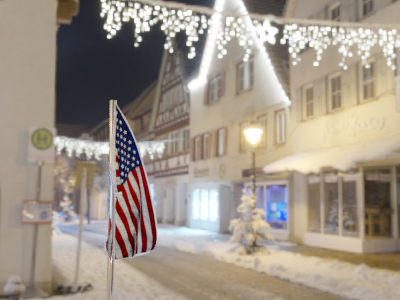America flag: (111, 102, 159, 262)
